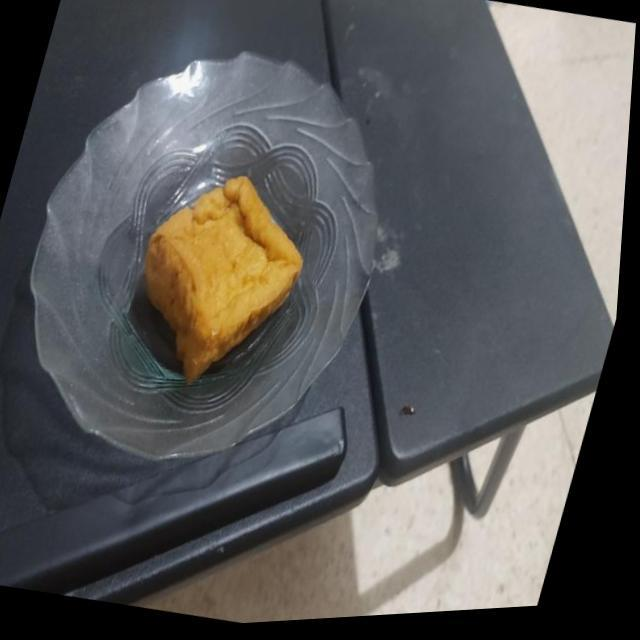tahu_goreng: (144, 176, 302, 382)
